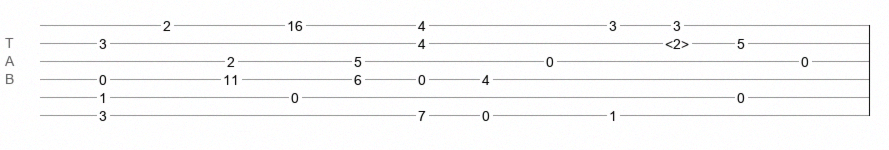0: (99, 72, 107, 82), (291, 90, 299, 100), (418, 72, 426, 82), (482, 108, 490, 118), (546, 54, 554, 64), (737, 90, 745, 100), (801, 54, 809, 64)
1: (99, 90, 107, 100), (609, 108, 617, 118)
11: (223, 72, 239, 82)
16: (287, 18, 303, 28)
2: (163, 18, 171, 28), (227, 54, 235, 64)
3: (99, 36, 107, 46), (99, 108, 107, 118), (609, 18, 617, 28), (673, 18, 681, 28)
4: (418, 36, 426, 46), (418, 18, 426, 28), (482, 72, 490, 82)
5: (354, 54, 362, 64), (737, 36, 745, 46)
6: (354, 72, 362, 82)
7: (418, 108, 426, 118)
harmonic: (665, 36, 689, 46)
